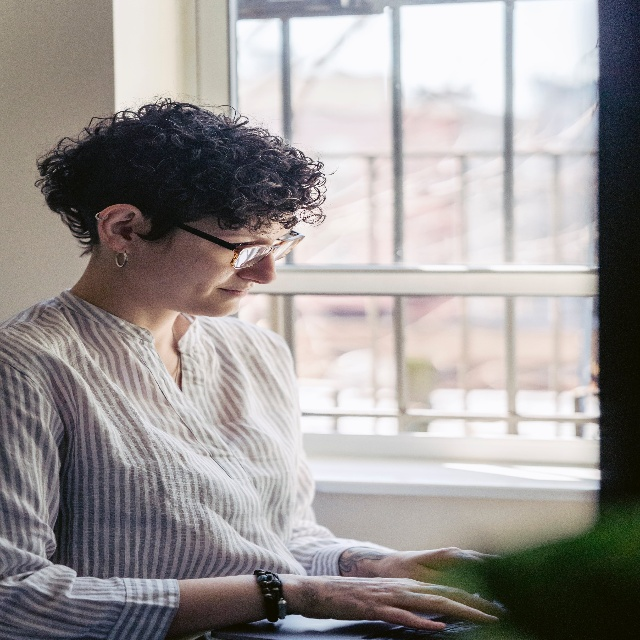Gafas: (173, 220, 306, 269)
Sin_guantes: (300, 575, 503, 631), (382, 547, 503, 603)
